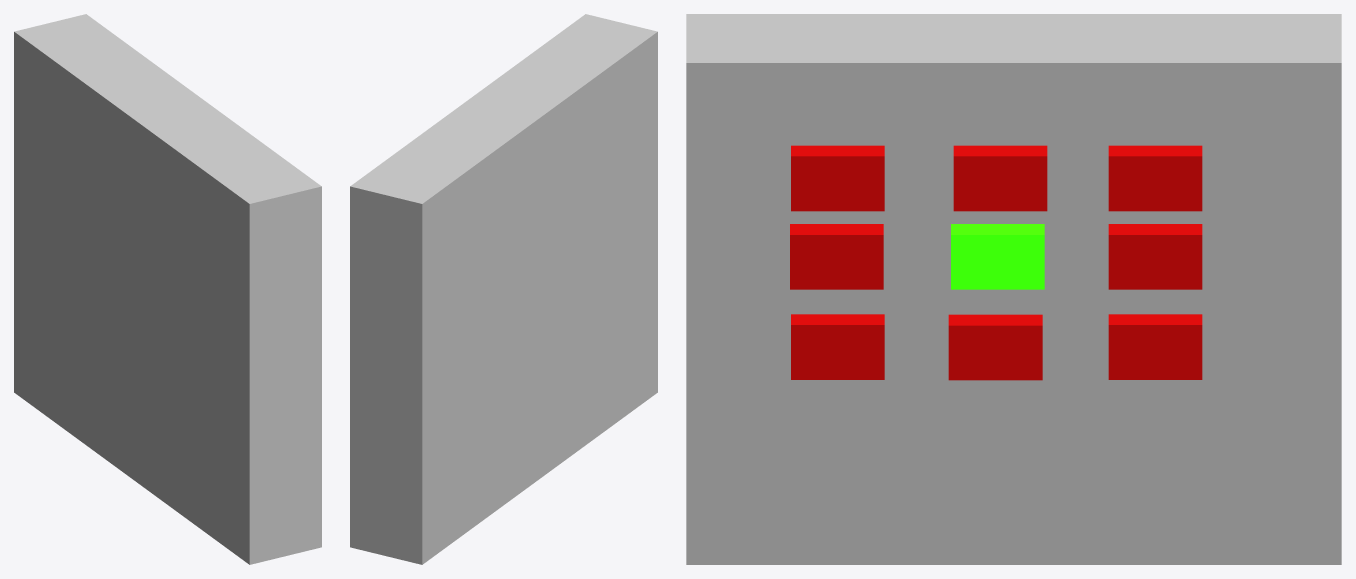
File: DepositBox Cabinet.fbx
3 renders of one model, left to right at view 1: azimuth 30°, elevation 25°; view 2: azimuth 150°, elevation 25°; view 3: azimuth 270°, elevation 25°, orthographic. The views are drawn at different scales.
Parts seen in each view (by area): view 1: DepositBox_Cabinet; view 2: DepositBox_Cabinet; view 3: DepositBox_Cabinet, Incorrect_Desposit_Box__6_, Incorrect_Desposit_Box__2_, Incorrect_Desposit_Box__3_, Incorrect_Desposit_Box__4_, Incorrect_Desposit_Box__1_, Incorrect_Desposit_Box__7_, Correct_Desposit_Box, Incorrect_Desposit_Box, Incorrect_Desposit_Box__5_.
Part boxes in pixels (left/top/right/bottom): DepositBox_Cabinet: left=14, top=14, right=321, bottom=564; DepositBox_Cabinet: left=350, top=14, right=657, bottom=564; DepositBox_Cabinet: left=686, top=14, right=1341, bottom=564; Incorrect_Desposit_Box__6_: left=948, top=314, right=1042, bottom=380; Incorrect_Desposit_Box__2_: left=1108, top=145, right=1202, bottom=211; Incorrect_Desposit_Box__3_: left=953, top=145, right=1047, bottom=211; Incorrect_Desposit_Box__4_: left=791, top=145, right=884, bottom=211; Incorrect_Desposit_Box__1_: left=1108, top=224, right=1202, bottom=289; Incorrect_Desposit_Box__7_: left=1108, top=314, right=1202, bottom=379; Correct_Desposit_Box: left=951, top=224, right=1044, bottom=289; Incorrect_Desposit_Box: left=790, top=224, right=883, bottom=289; Incorrect_Desposit_Box__5_: left=791, top=314, right=884, bottom=379.
Size of the model in its own units: 122 by 478 by 565.
